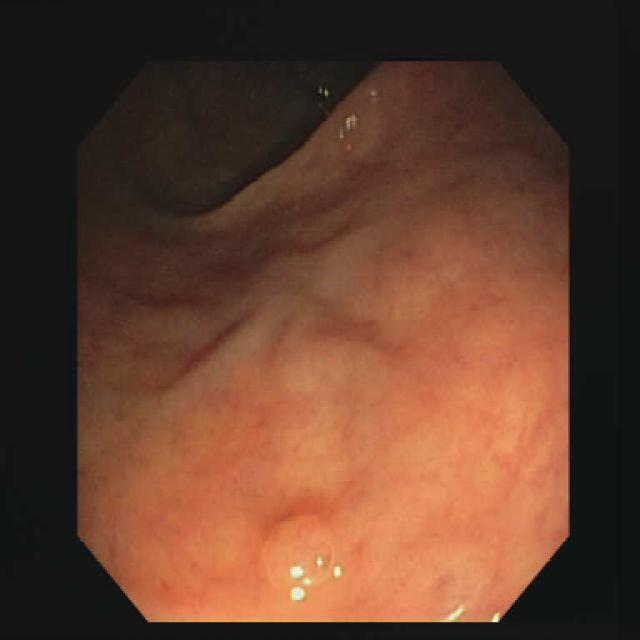tumor: (258, 513, 342, 600)
